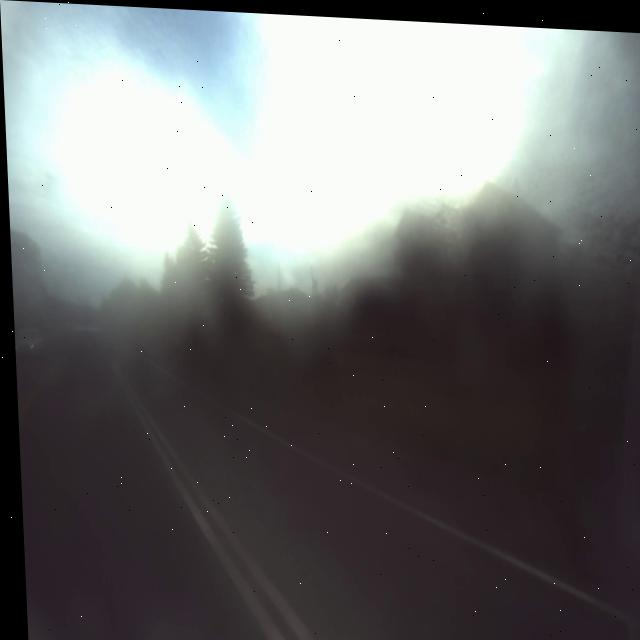car: (60, 318, 106, 377)
